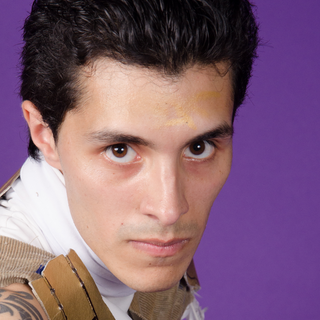eye: (97, 138, 144, 165), (181, 133, 223, 162)
